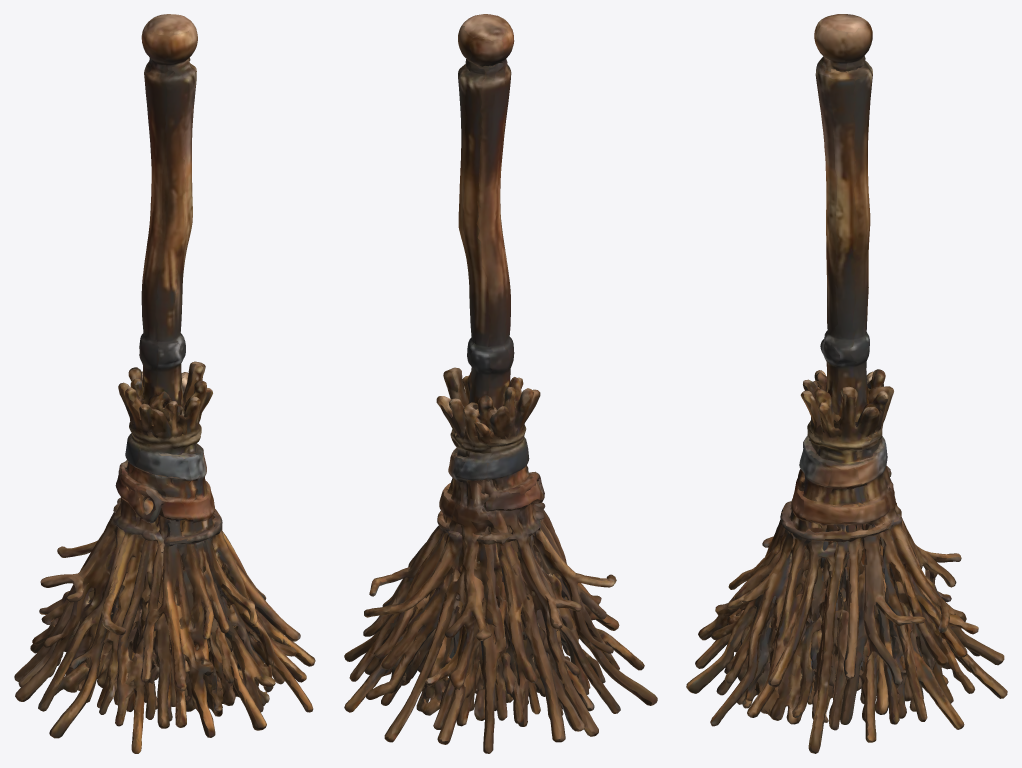
The model's file is broomstick.glb.
3 views of the same model, side by side, from view 1: azimuth 30°, elevation 25°; view 2: azimuth 150°, elevation 25°; view 3: azimuth 270°, elevation 25° (orthographic).
Visible parts, largest first — view 1: geometry_0; view 2: geometry_0; view 3: geometry_0.
Part boxes in pixels (x1,y1,x2,y2): geometry_0: (14, 14, 315, 753); geometry_0: (344, 14, 657, 753); geometry_0: (686, 14, 1007, 753).
Size of the model in its own units: 0.3239 by 0.75 by 0.3239.
Materials: 1 (1 with a texture image).
